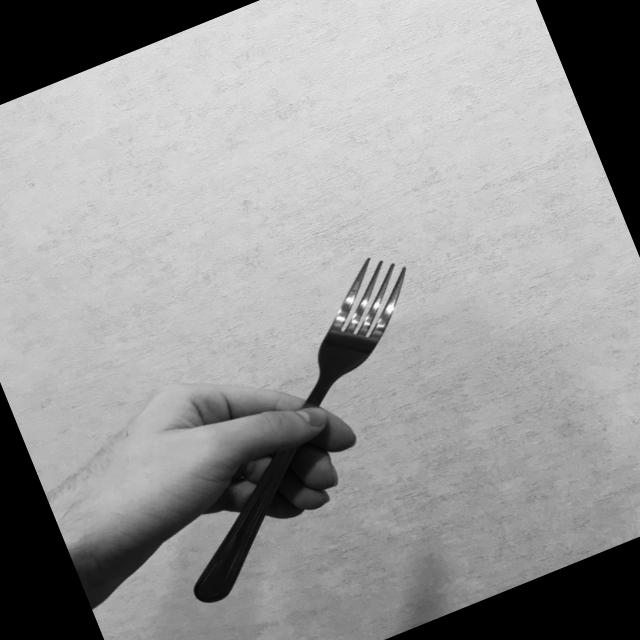fork: (98, 246, 496, 611)
